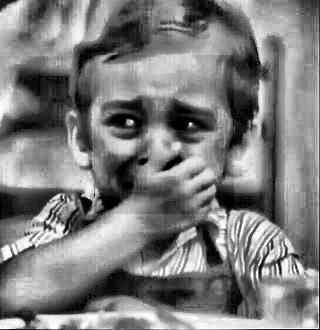sad: (95, 56, 235, 215)
